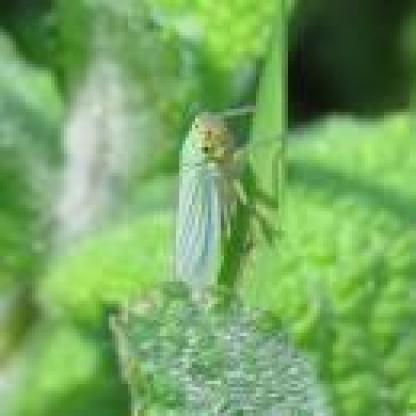Green-Leafhopper: (169, 102, 286, 311)
